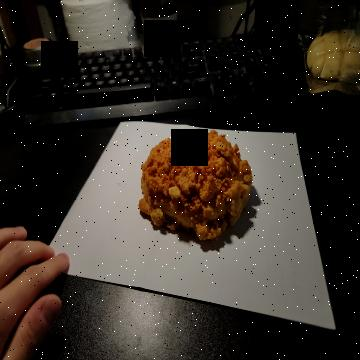soboru_bread: (138, 127, 252, 241)
